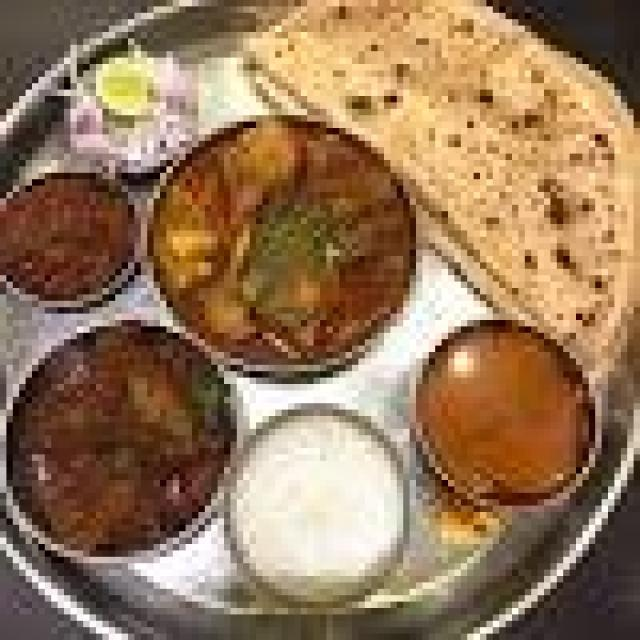dal: (228, 411, 407, 598), (417, 322, 588, 516)
roti: (375, 6, 632, 348)
veg-fry: (2, 165, 136, 316)
